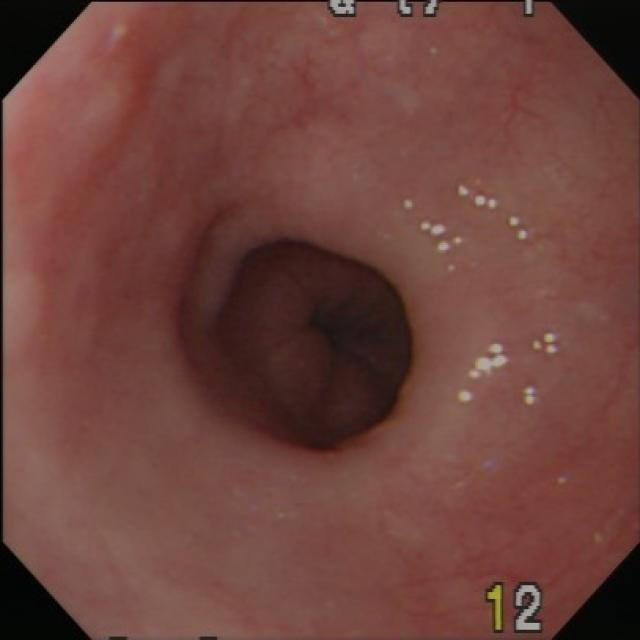I: (215, 237, 414, 456)
S: (485, 581, 547, 636), (325, 3, 545, 18)
U: (459, 342, 511, 407), (405, 198, 465, 253), (457, 183, 501, 214), (533, 330, 558, 355), (510, 215, 531, 242), (523, 385, 544, 407)
